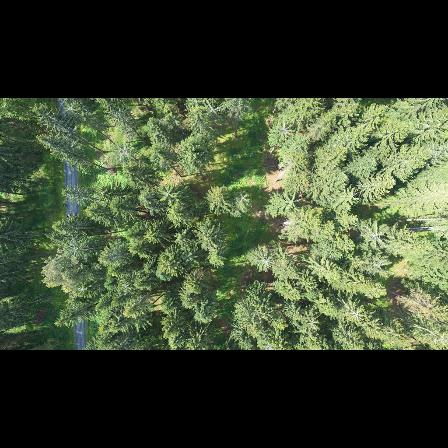Sick: (339, 301, 375, 327), (247, 247, 281, 272), (153, 180, 184, 206), (273, 118, 297, 142)
